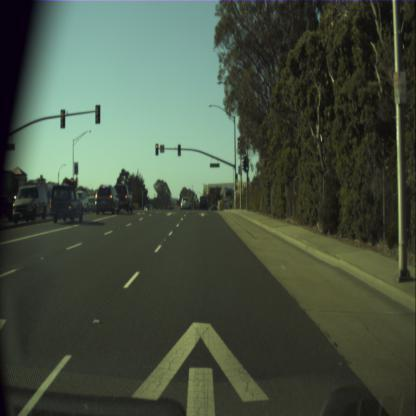Green: (245, 158, 248, 170), (178, 144, 180, 156), (235, 173, 236, 182)
RedLeft: (70, 178, 74, 188), (155, 143, 158, 155)
